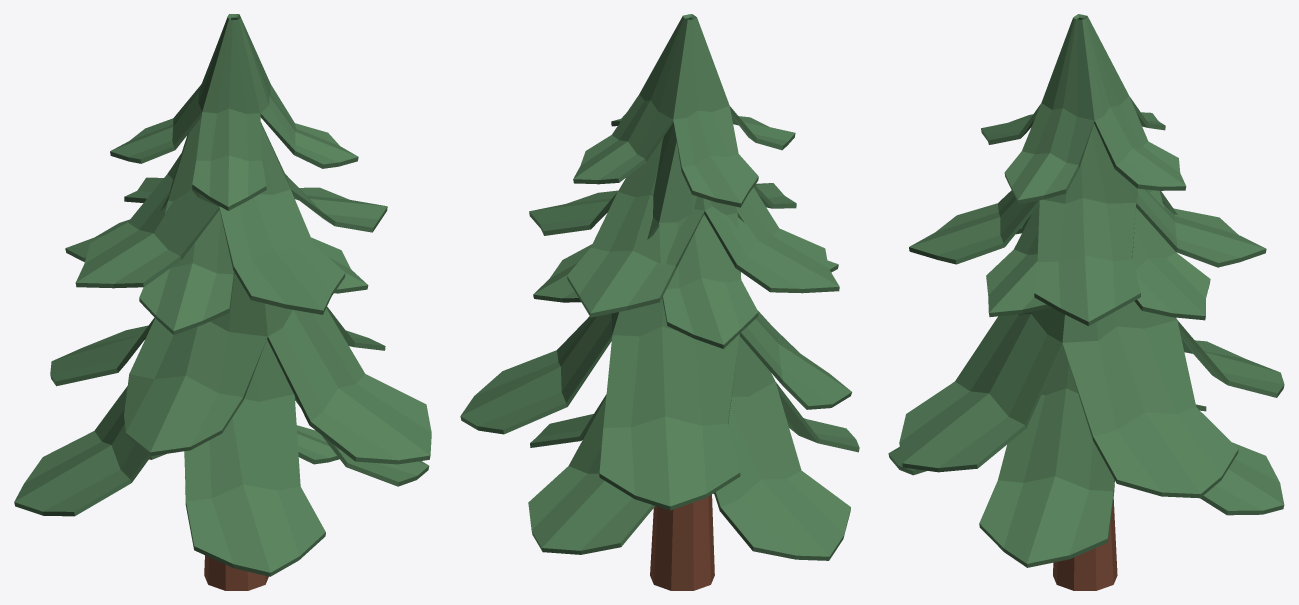
File: agac4.fbx
The picture shows the model from 3 angles, left to right: view 1: azimuth 30°, elevation 25°; view 2: azimuth 150°, elevation 25°; view 3: azimuth 270°, elevation 25°; orthographic projection.
Parts seen in each view (by area): view 1: Plane.003; view 2: Plane.003; view 3: Plane.003.
Boxes of the visible parts, <box> form: Plane.003: <box>14,14,431,590</box>; Plane.003: <box>460,14,859,590</box>; Plane.003: <box>888,14,1284,590</box>.
Size of the model in its own units: 520 by 787 by 506.
